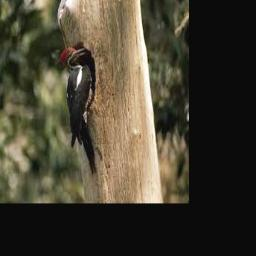Woodpecker: (60, 47, 97, 174)
